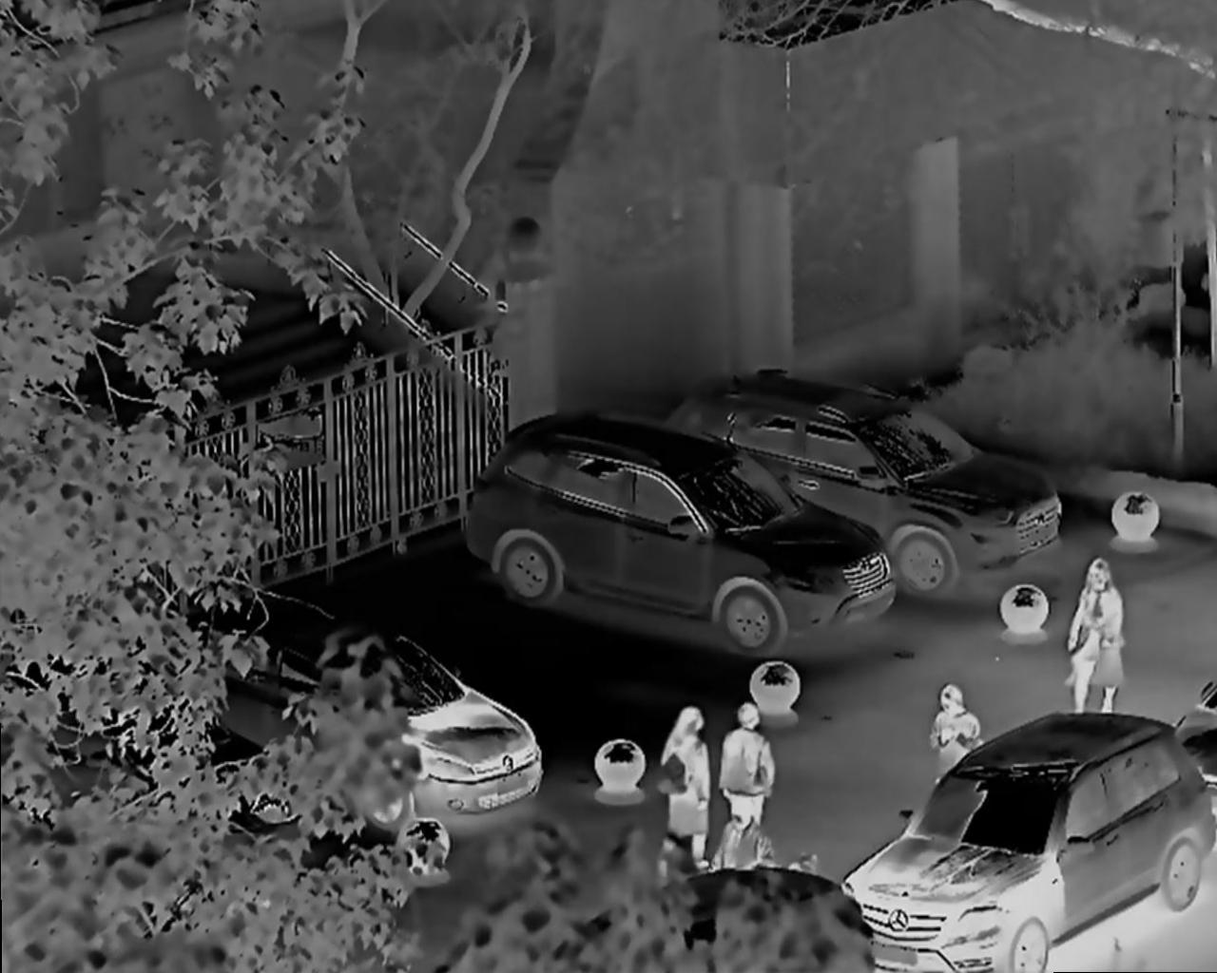person: (722, 701, 794, 886), (1066, 557, 1130, 730), (660, 698, 705, 896), (931, 676, 982, 831), (724, 803, 776, 945)
